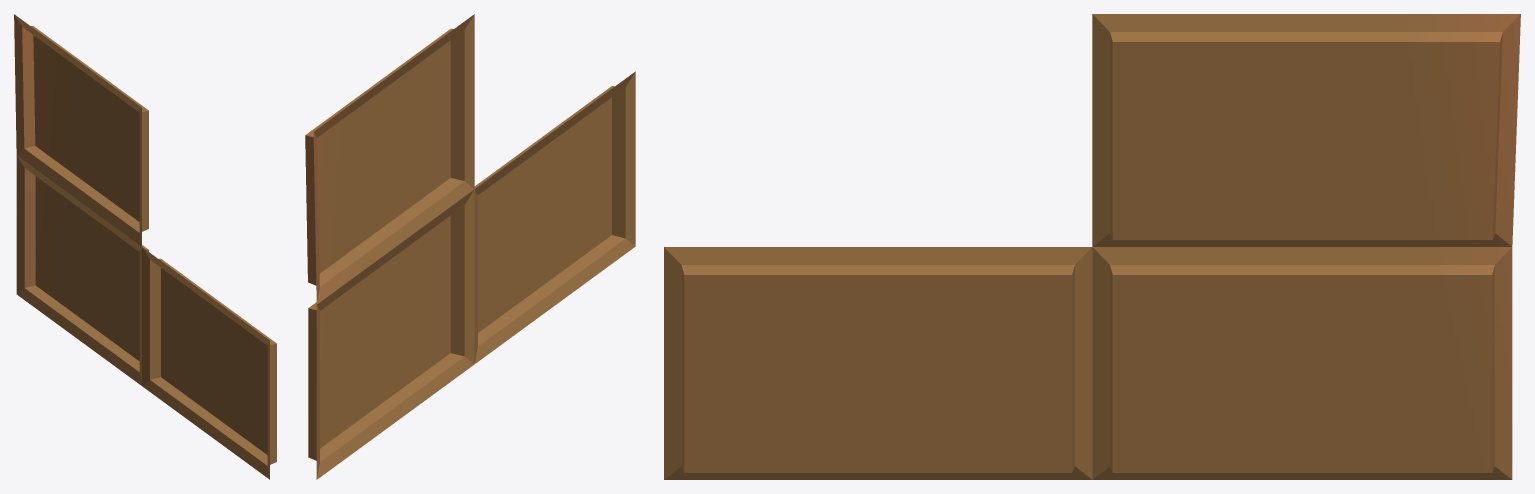
Rendered from Stairs Side.fbx.
3 views of the same model, side by side, from view 1: azimuth 30°, elevation 25°; view 2: azimuth 150°, elevation 25°; view 3: azimuth 270°, elevation 25° (orthographic). The views are drawn at different scales.
Visible parts, largest first — view 1: Stair Asset Side; view 2: Stair Asset Side; view 3: Stair Asset Side.
Boxes of the visible parts, x1=… form: Stair Asset Side: x1=14, y1=14, x2=276, y2=479; Stair Asset Side: x1=305, y1=14, x2=635, y2=479; Stair Asset Side: x1=664, y1=14, x2=1520, y2=479.
Size of the model in its own units: 2.9 by 60 by 100.
